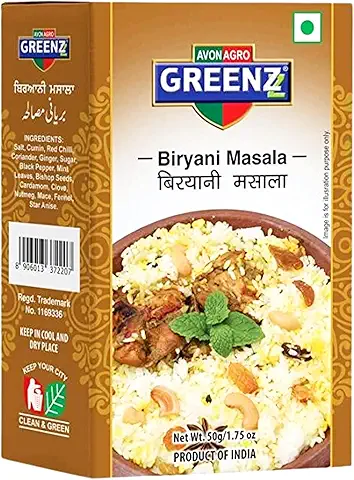Biryani: (7, 1, 354, 474)
